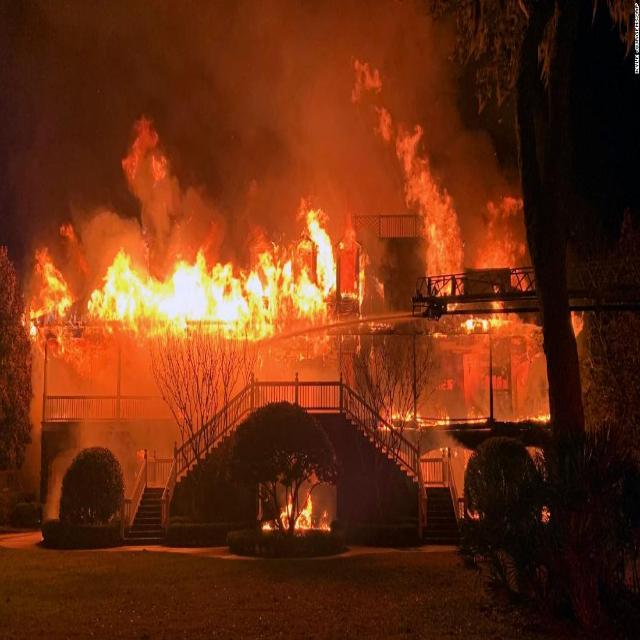Fire: (89, 225, 280, 344), (396, 121, 465, 294), (20, 247, 96, 378), (338, 210, 393, 356), (280, 193, 337, 321), (475, 194, 525, 270), (122, 112, 168, 186), (352, 61, 392, 142), (262, 492, 331, 533), (384, 402, 488, 429), (259, 334, 341, 368), (61, 224, 88, 299), (432, 312, 512, 336), (569, 309, 585, 338), (506, 414, 550, 424)
Smoke: (168, 0, 280, 242), (282, 0, 350, 199), (389, 0, 461, 121), (443, 126, 522, 196), (89, 187, 168, 240), (352, 144, 398, 212), (78, 418, 116, 450), (45, 472, 61, 518)
